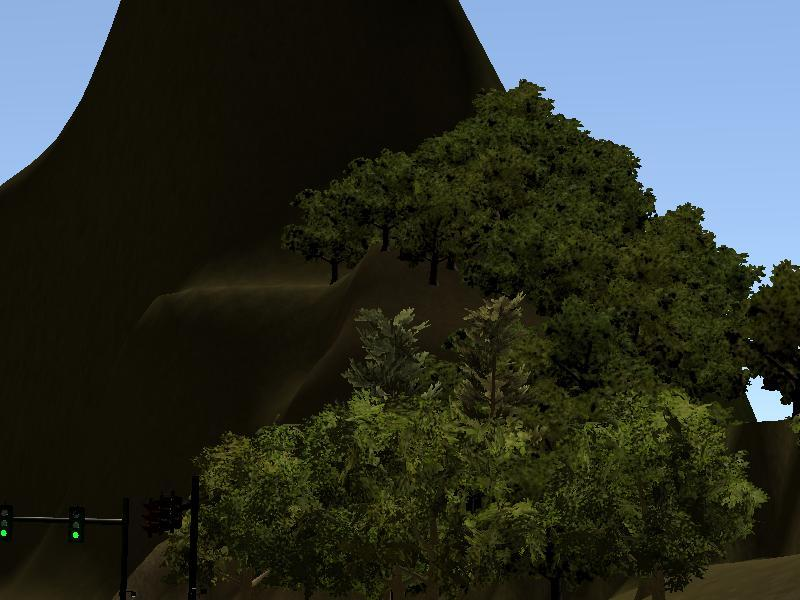Green: (68, 506, 85, 545), (1, 505, 12, 543)
